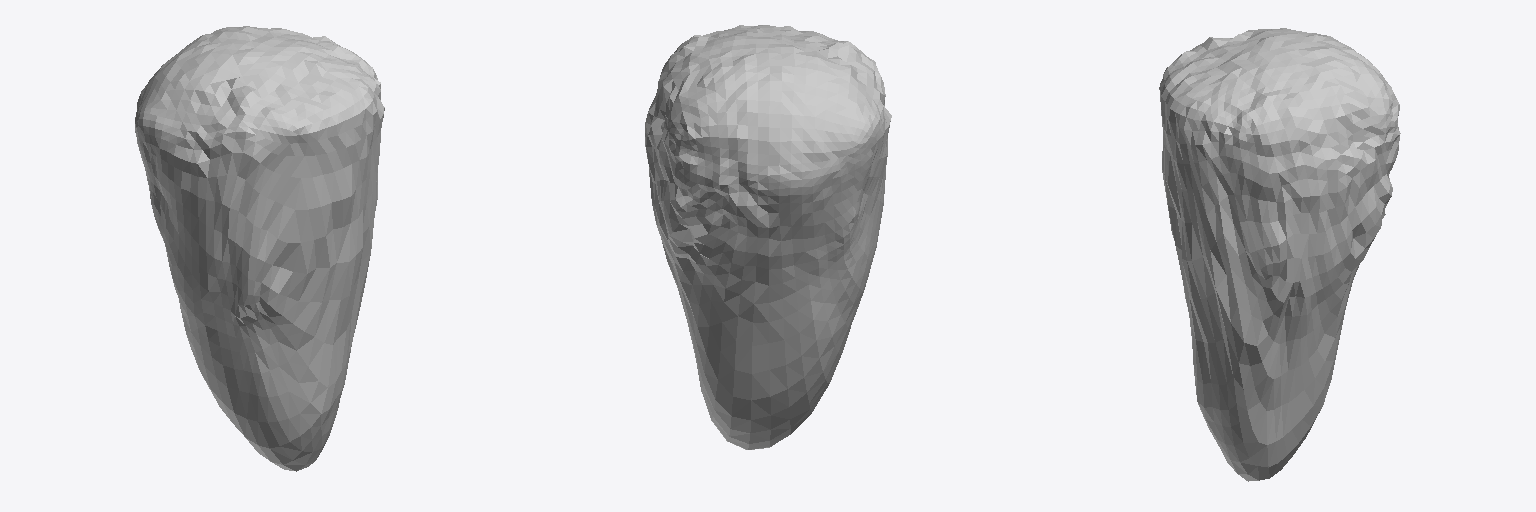
Rendered from rock5.obj.
3 views of the same model, side by side, from view 1: azimuth 30°, elevation 25°; view 2: azimuth 150°, elevation 25°; view 3: azimuth 270°, elevation 25° (orthographic).
Parts seen in each view (by area): view 1: rock_05.008; view 2: rock_05.008; view 3: rock_05.008.
Part boxes in pixels (x1,y1,x2,y2): rock_05.008: (135,26,384,471); rock_05.008: (645,25,891,449); rock_05.008: (1159,28,1400,481).
Bounding box in the file's own units: 1.73 × 3.17 × 1.66.